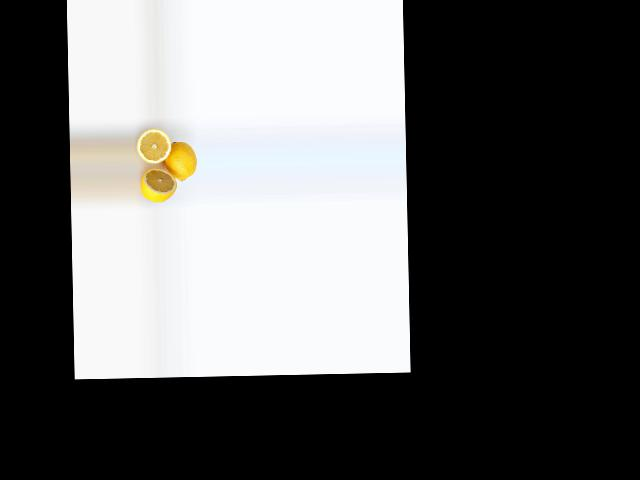lemon: (165, 137, 197, 184)
